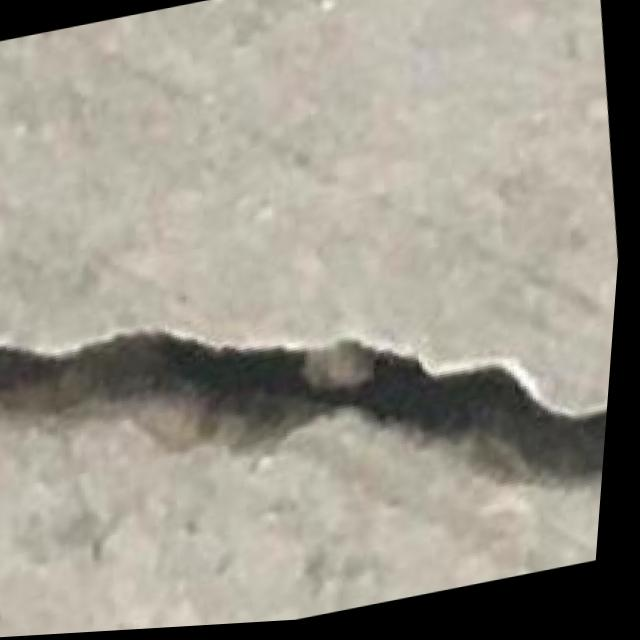Crack: (0, 204, 626, 585)
